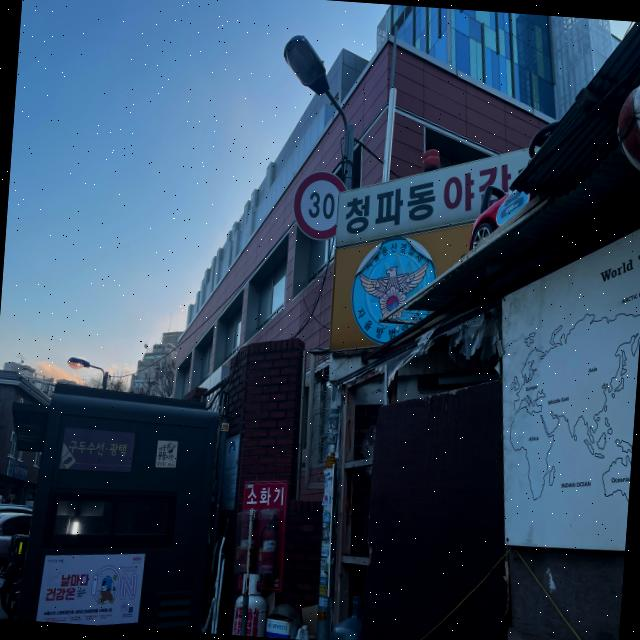Ograniczenie predkosci do 30: (290, 170, 349, 241)
